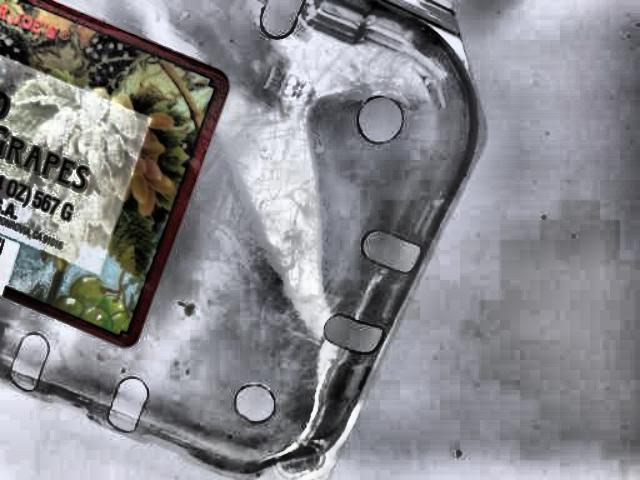Plastic: (0, 4, 510, 478)
